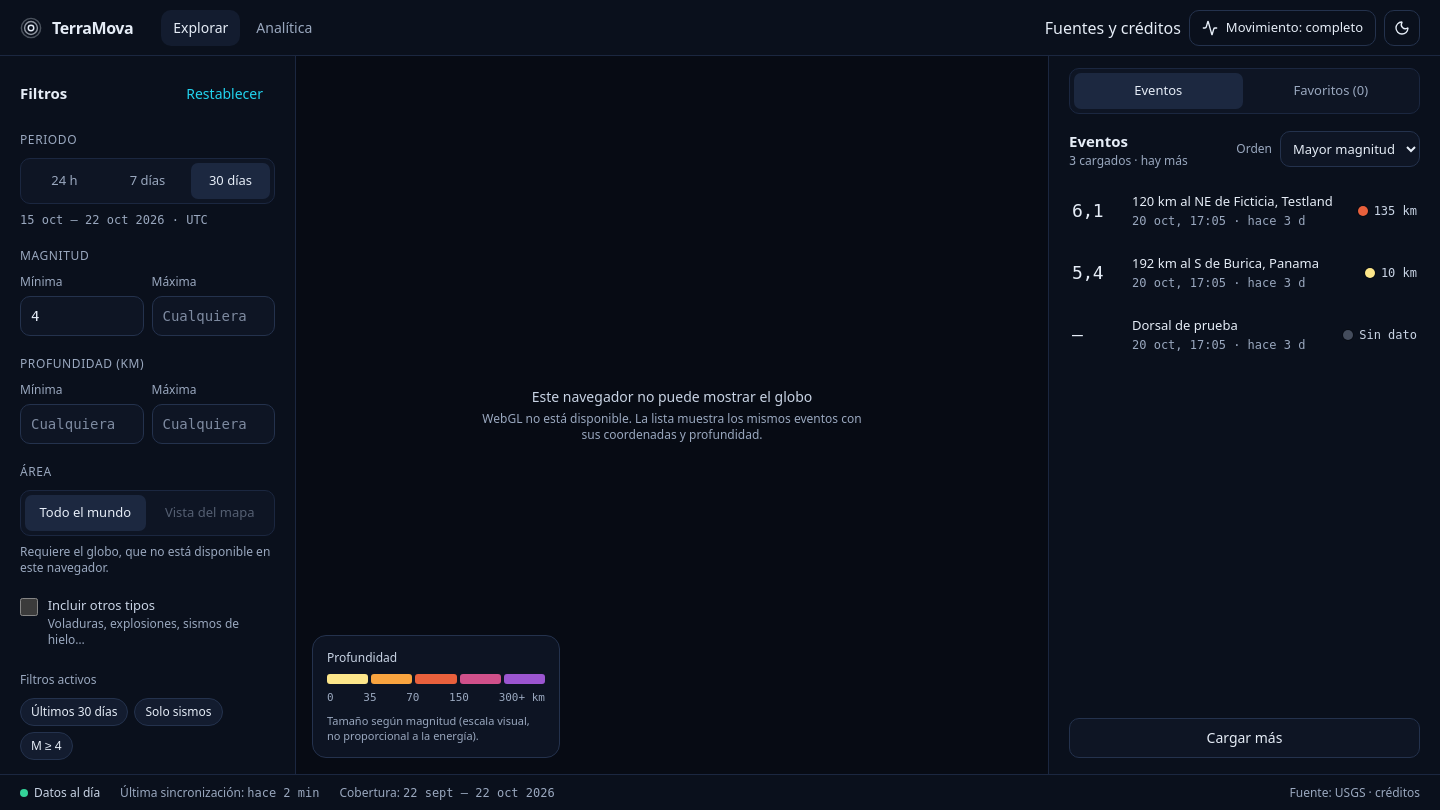
Test: Analítica › comparte los filtros con Explorar: el enlace de la cabecera los conserva
The image size is (1440, 810).
Click the link "Analítica" at (284, 27), box [256,18,312,36]
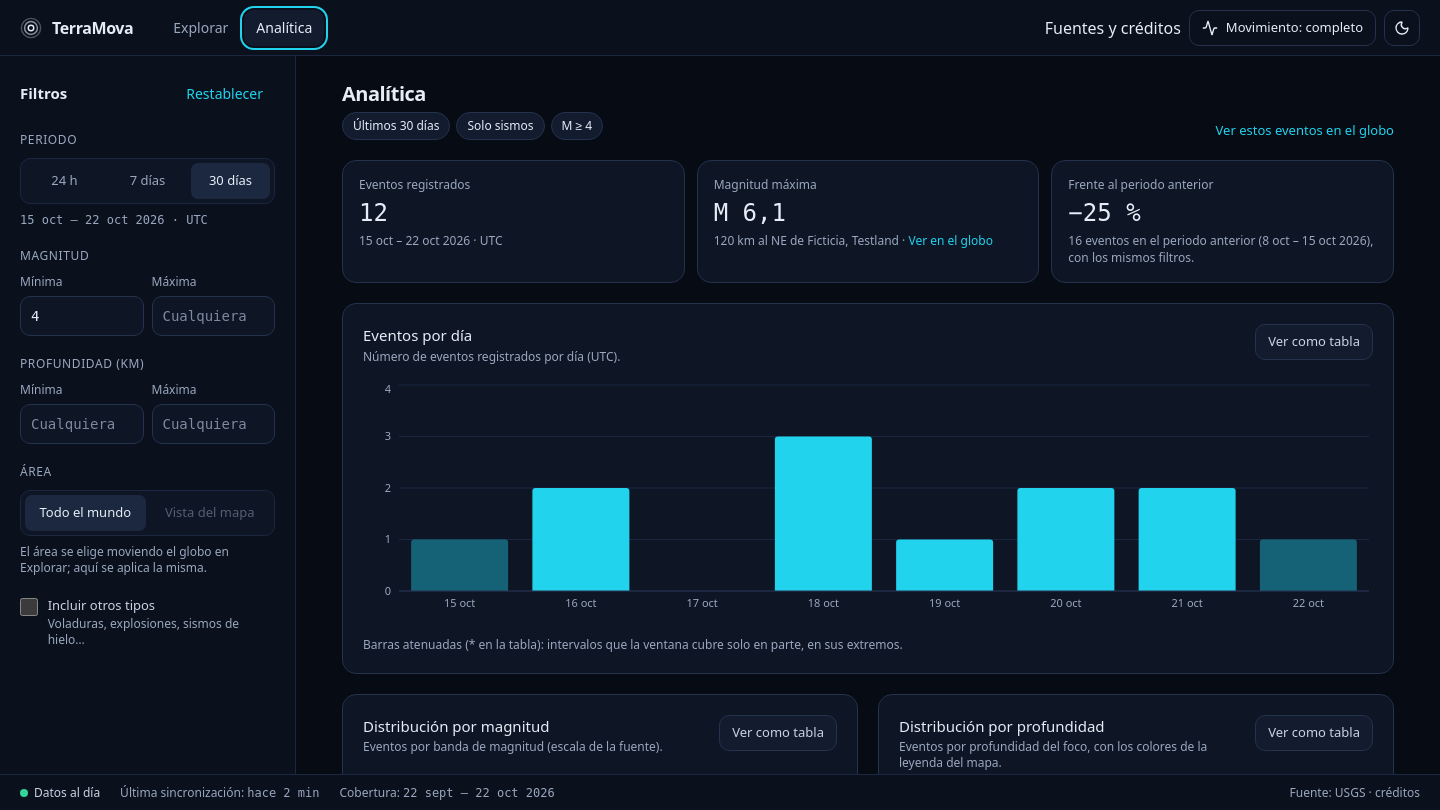
Expected: the text "12" is shown, [359,199,388,227]
